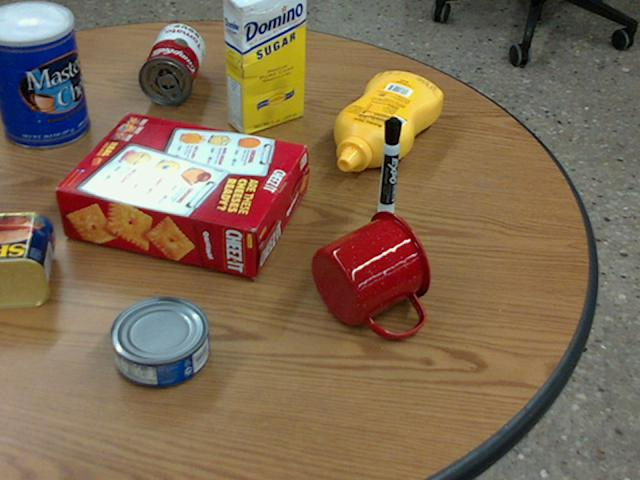cracker_box: (57, 112, 305, 277)
large_marker: (378, 116, 400, 216)
master_chef_can: (0, 1, 89, 148)
mug: (311, 210, 431, 336)
mustard_bottle: (333, 72, 441, 171)
potted_meat_can: (0, 210, 53, 307)
sugar_box: (223, 0, 305, 135)
tomato_soup_can: (138, 24, 203, 104)
tuna_fish_can: (108, 295, 207, 386)
